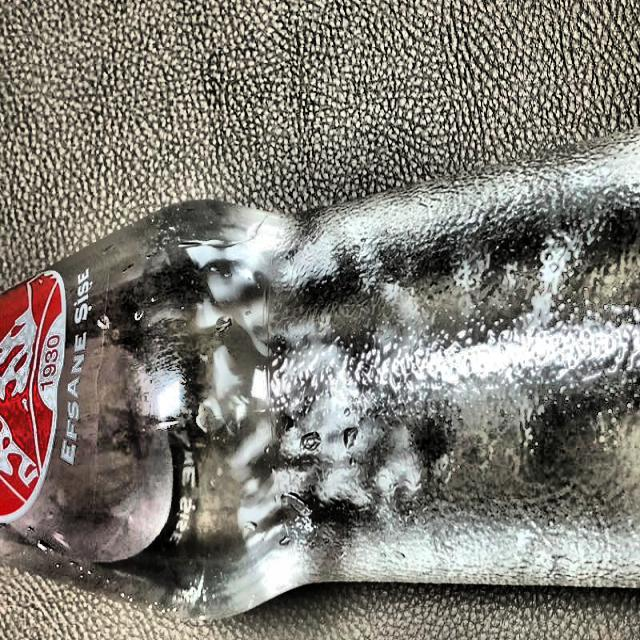plastic: (0, 125, 640, 627)
